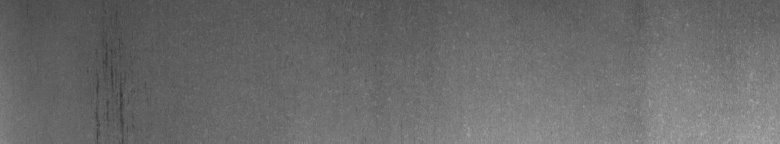ka: (92, 40, 134, 136)
